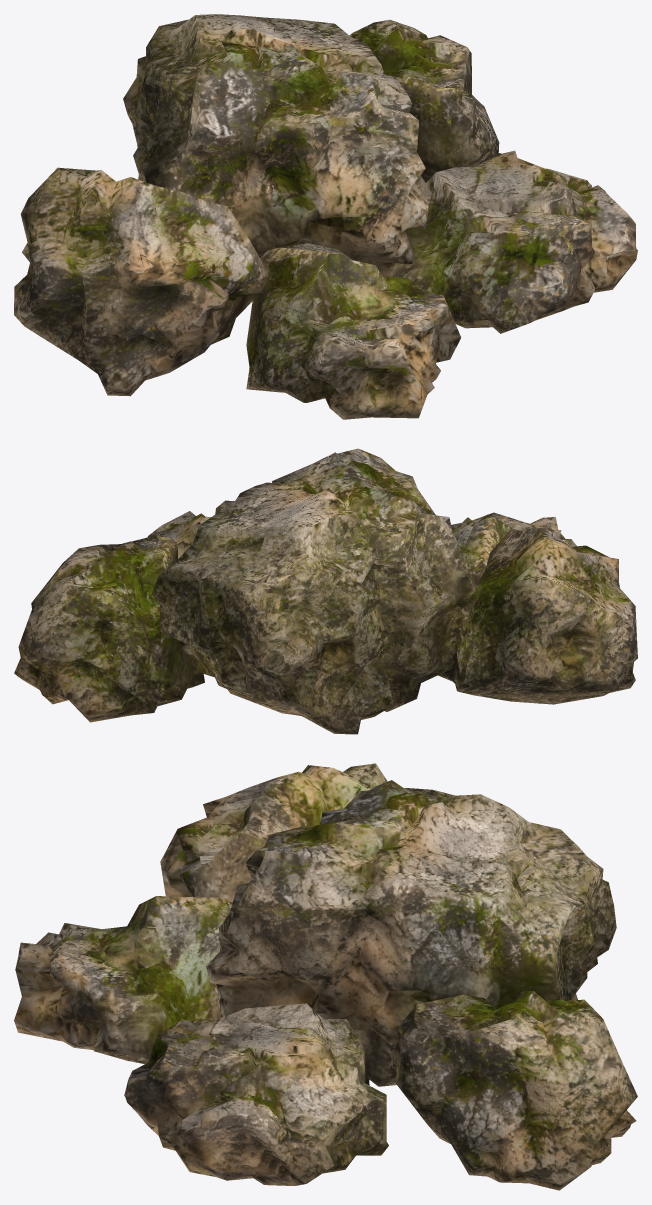
Rendered from ROC_RocaTropical_01_LOD0.fbx.
The picture shows the model from 3 angles, top to bottom: view 1: azimuth 30°, elevation 25°; view 2: azimuth 150°, elevation 25°; view 3: azimuth 270°, elevation 25°; orthographic projection. The views are drawn at different scales.
Parts seen in each view (by area): view 1: ROC_RocaTropical_01_Mesh000; view 2: ROC_RocaTropical_01_Mesh000; view 3: ROC_RocaTropical_01_Mesh000.
Boxes of the visible parts, x1,y1,x2,y2 form: ROC_RocaTropical_01_Mesh000: [14, 14, 637, 419]; ROC_RocaTropical_01_Mesh000: [14, 448, 637, 734]; ROC_RocaTropical_01_Mesh000: [14, 763, 637, 1190].
Size of the model in its own units: 1.4 by 0.5562 by 1.28.
